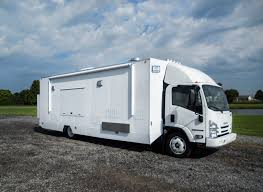truck: (33, 57, 237, 158)
